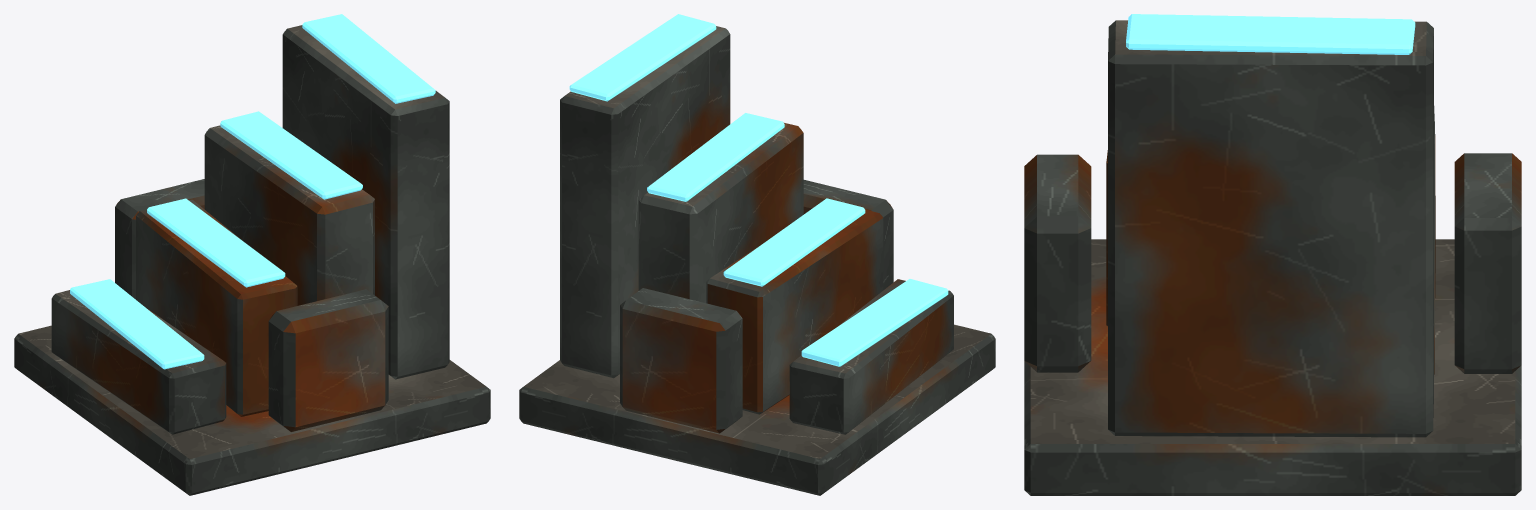
Rendered from R4X_ModuleAmplifier_LOD1.glb.
3 renders of one model, left to right at view 1: azimuth 30°, elevation 25°; view 2: azimuth 150°, elevation 25°; view 3: azimuth 270°, elevation 25°, orthographic. The views are drawn at different scales.
Visible parts, largest first — view 1: R4X_ModuleAmplifier_LOD1; view 2: R4X_ModuleAmplifier_LOD1; view 3: R4X_ModuleAmplifier_LOD1.
Part boxes in pixels (x1,y1,x2,y2): R4X_ModuleAmplifier_LOD1: (14, 14, 490, 495); R4X_ModuleAmplifier_LOD1: (519, 14, 995, 495); R4X_ModuleAmplifier_LOD1: (1024, 14, 1521, 495).
Bounding box in the file's own units: 0.52 × 0.512 × 0.52.
3 materials, 2 textured.
